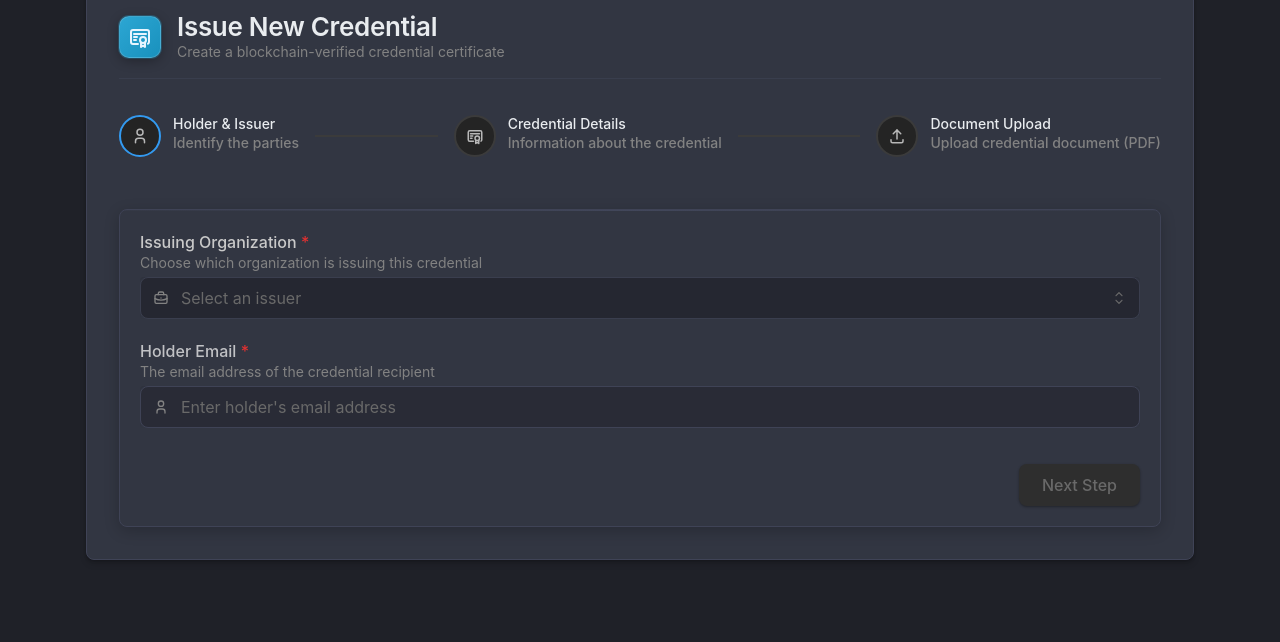
Test case: IssueCredential Component › navigates through steps when filling out the form
Note: Holder & Issuer
Click the field named "Issuing Organization Select". click: click(640, 298)
box: [140,277,1140,319]
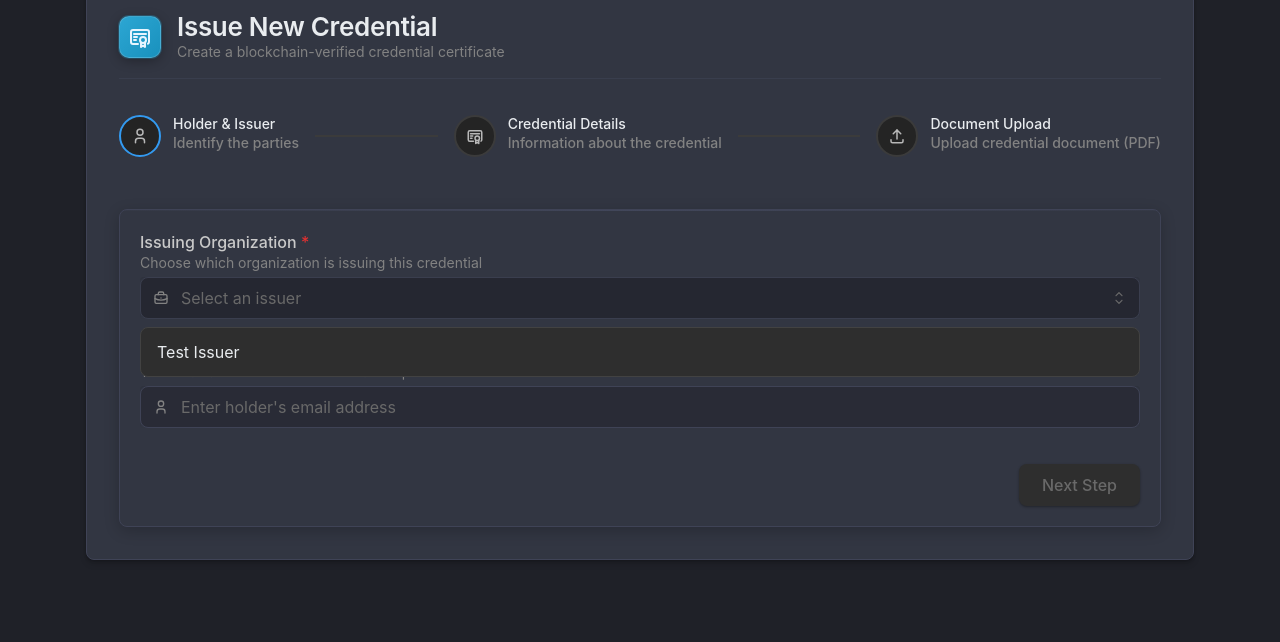
Click the option "Test Issuer". click: click(198, 352)
box: [157,342,240,362]
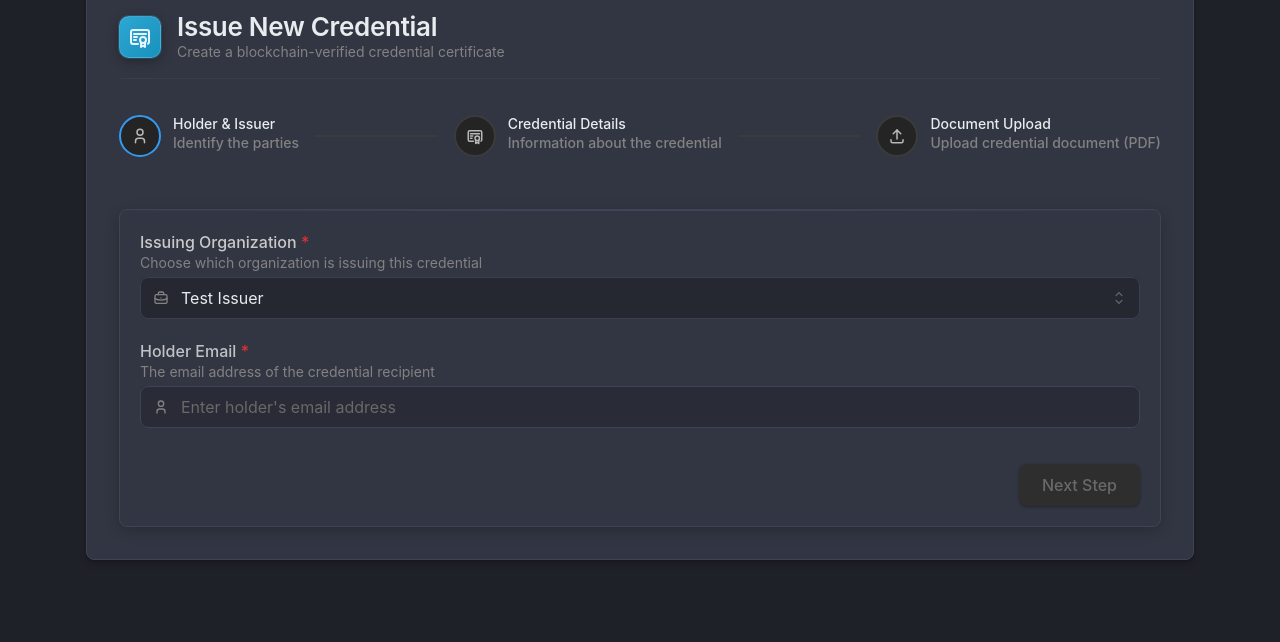
Type "holder@example.com" into the field labelled "Holder Email *". click: (640, 407)
box: [140,386,1140,428]
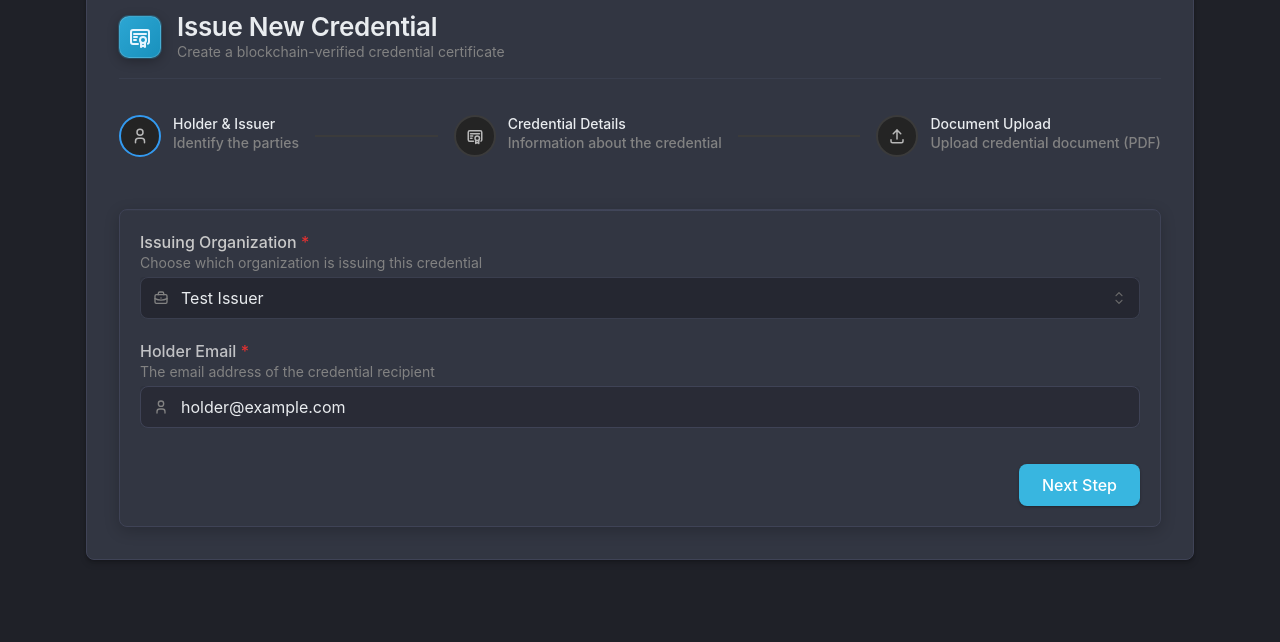
Click the button "Next Step". click: click(1080, 485)
box: [1019,464,1140,506]
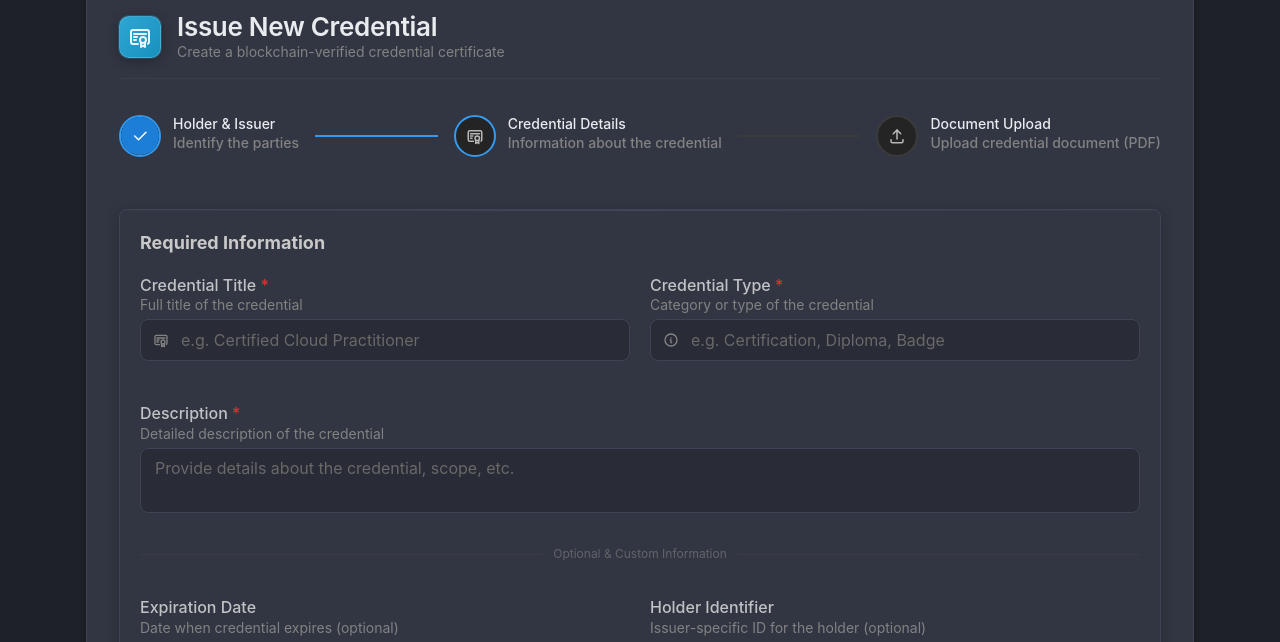
Check: the heading "Required Information" is shown, box [140,232,325,254]
Note: Fill out Step 2
Type "Test Credential" into the field labelled "Credential Title *". click: (385, 340)
box: [140,319,630,361]
Type "Certificate" into the field labelled "Credential Type *". click: (895, 340)
box: [650,319,1140,361]
Type "Test Description" into the text box labelled "Description *". click: (640, 481)
box: [140,448,1140,513]
(page scrolled)
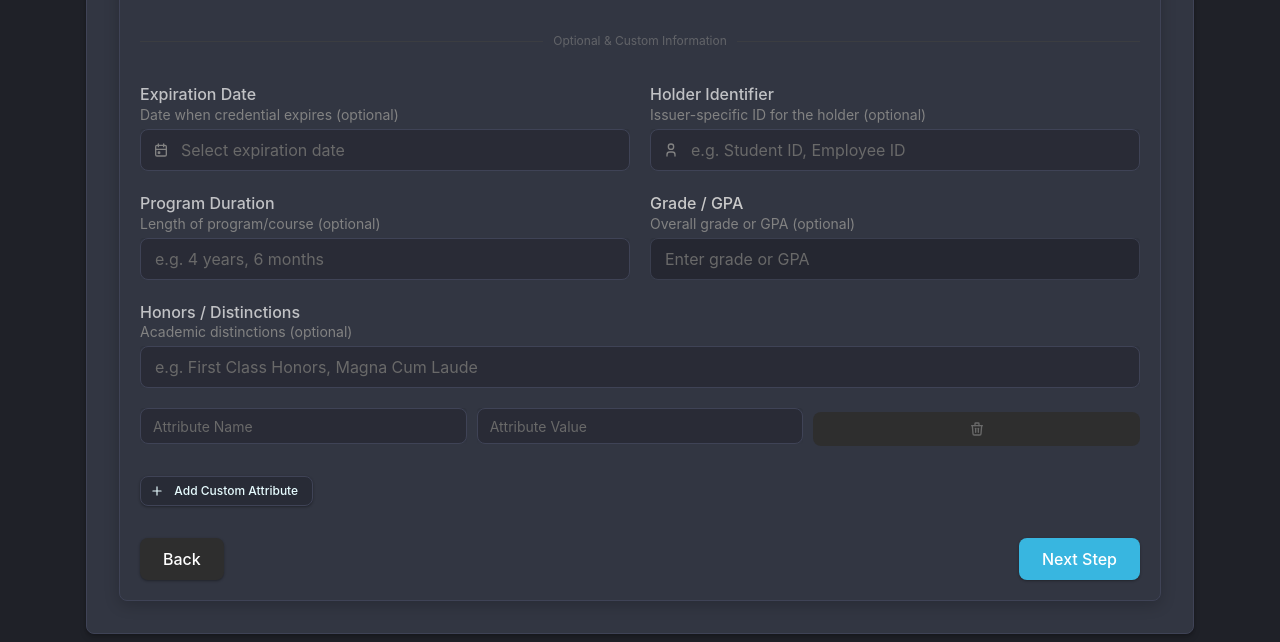
Note: Move to Step 3
Click the button "Next Step". click: click(1080, 559)
box: [1019,538,1140,580]
(page scrolled)
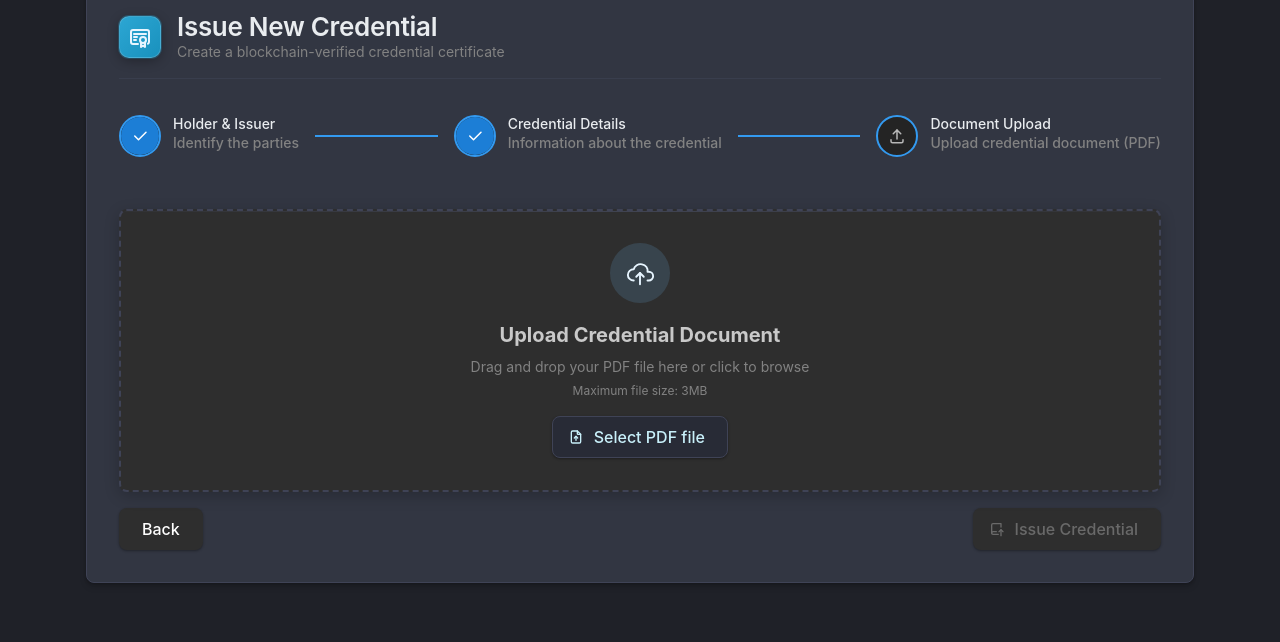
Check: the text "Upload Credential Document" is shown, box [500,324,780,348]
